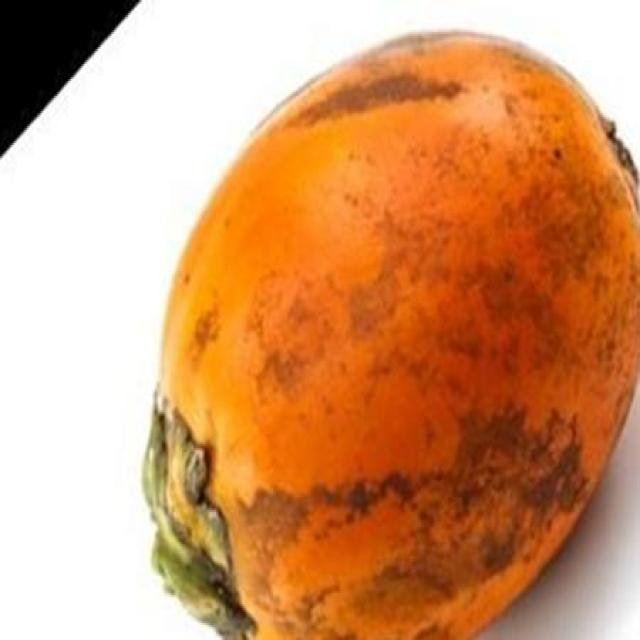good: (139, 32, 639, 638)
